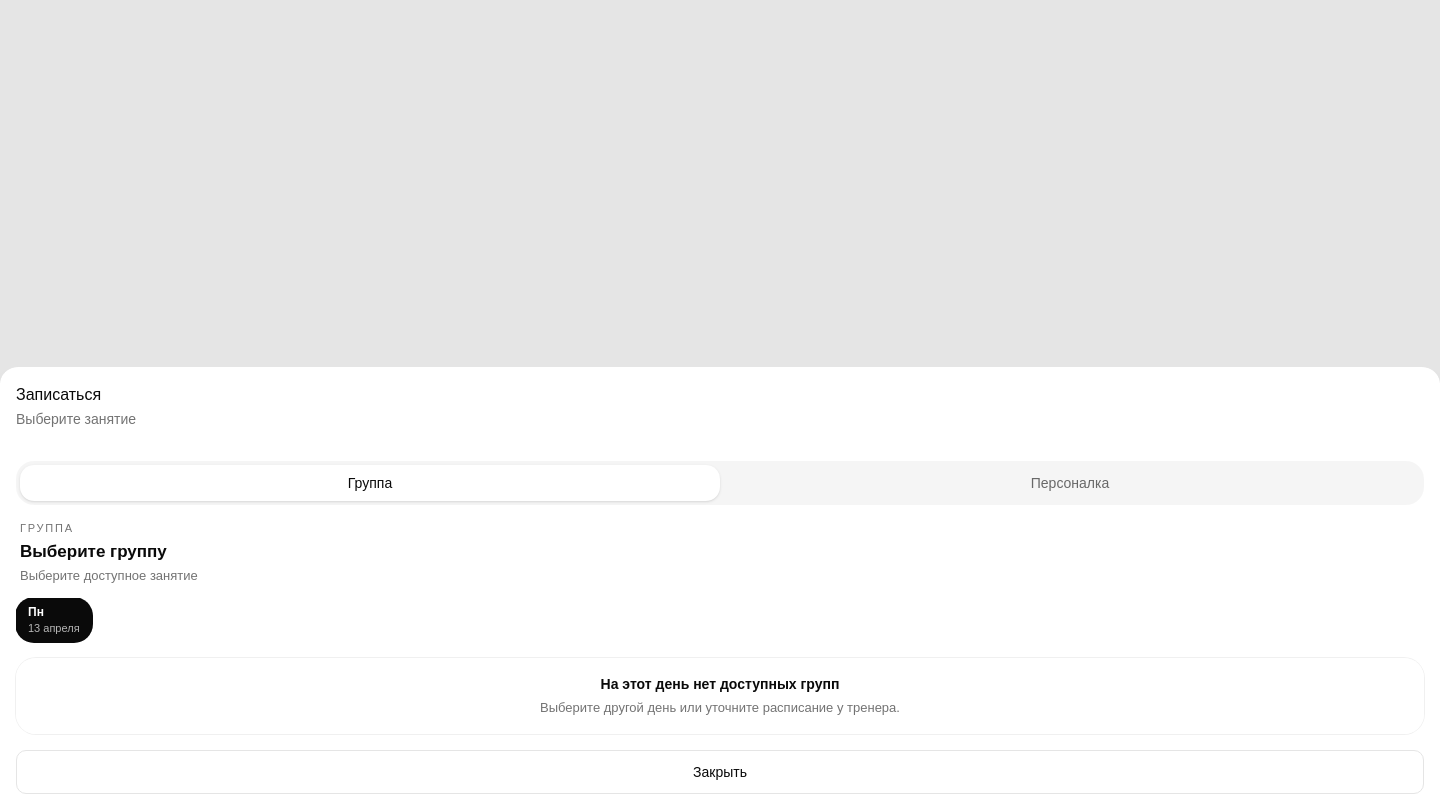
GuestSelfBookingSheet › attaches a reservation to the matching personal slot without blocking other slots
The width and height of the screenshot is (1440, 810).
Step 1. Click the tab "Персоналка" → click(1070, 483), box [720, 465, 1420, 501]
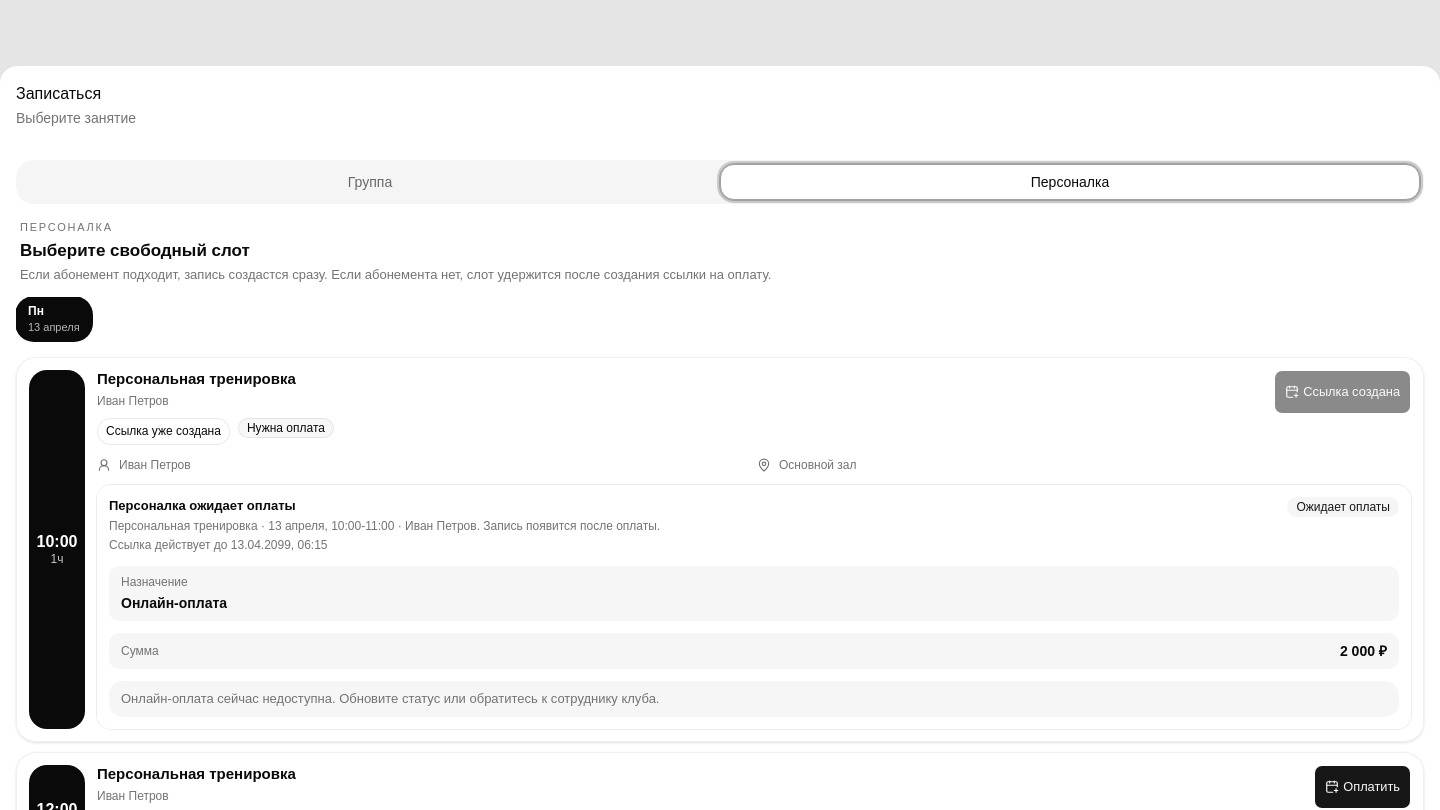
Now the text "Ссылка уже создана" is shown, box [97, 418, 230, 444]
Now the button "Ссылка создана" is disabled, box [1274, 370, 1411, 414]
Now the button "Оплатить" is enabled, box [1314, 765, 1411, 809]
